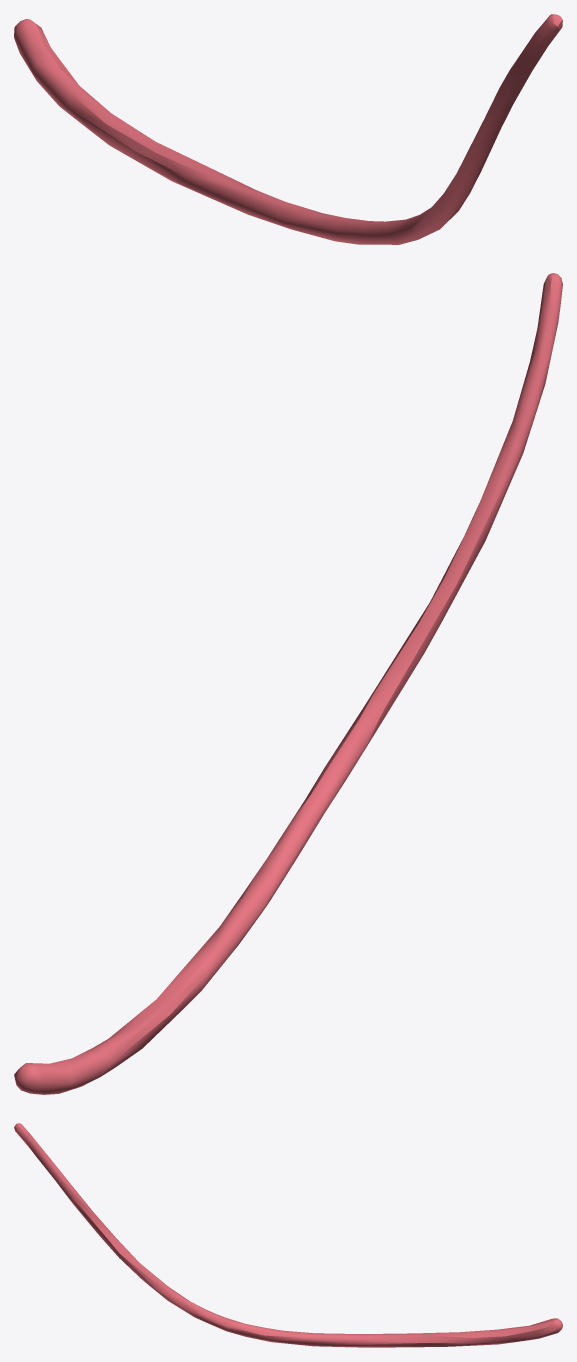
File: fma50443_fj5111.glb
3 views of the same model, one above another, from view 1: azimuth 30°, elevation 25°; view 2: azimuth 150°, elevation 25°; view 3: azimuth 270°, elevation 25° (orthographic). The views are drawn at different scales.
Parts seen in each view (by area): view 1: FMA50443_FJ5111; view 2: FMA50443_FJ5111; view 3: FMA50443_FJ5111.
Boxes of the visible parts, x1,y1,x2,y2 form: FMA50443_FJ5111: (14, 14, 562, 244); FMA50443_FJ5111: (14, 273, 562, 1094); FMA50443_FJ5111: (14, 1123, 562, 1347).
Bounding box in the file's own units: 0.00209 × 0.0123 × 0.027.
